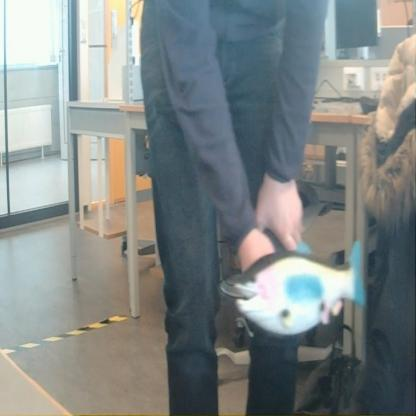rubberfish: (233, 234, 370, 339)
